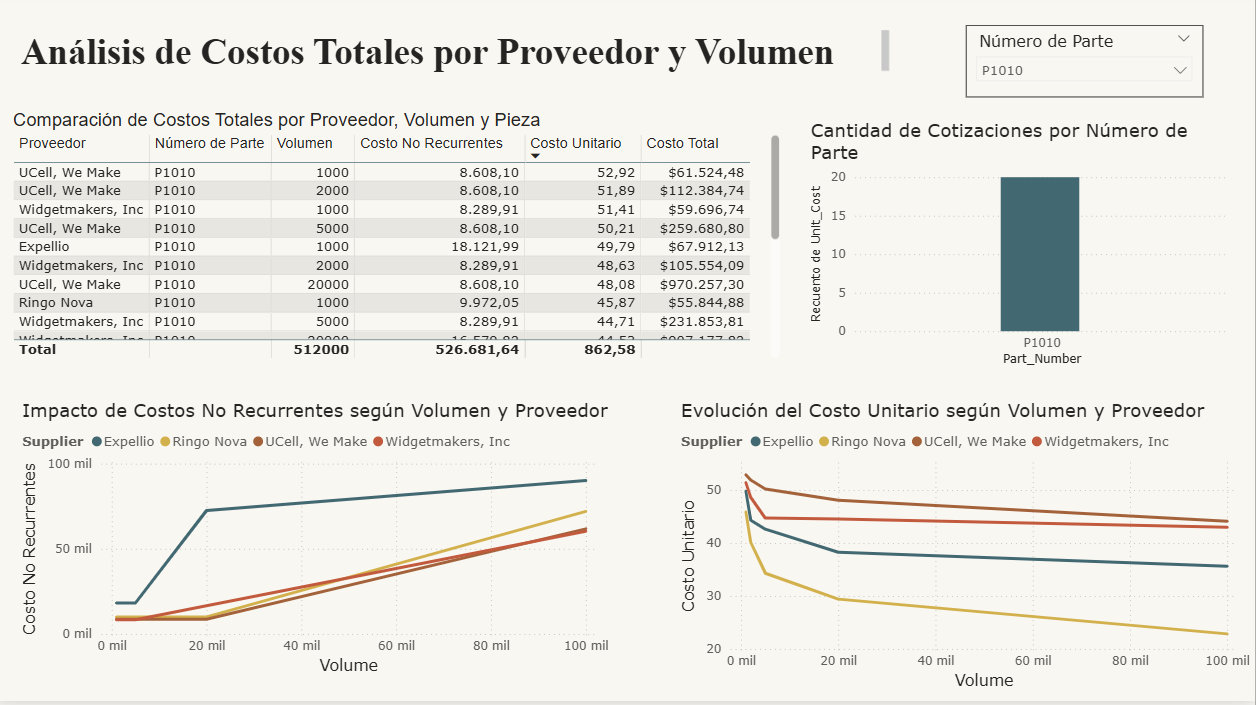

Layout of this report page (visuals, bound fields, positions):
{"tool":"powerbi","page":{"name":"Page 1","canvas":[1280,720],"ordinal":0},"visuals":[{"type":"lineChart","title":"Impacto de Costos No Recurrentes según Volumen y Proveedor","fields":{"Series":["Quotes.Supplier"],"Y":["Sum(Quotes.Non_recurring_expenses)"],"Category":["Quotes.Volume"]},"box":[21.5,411.8,605.6,285.1],"z":0},{"type":"slicer","fields":{"Values":["Quotes.Part_Number"]},"box":[986.6,32.9,241.1,73.8],"z":1000},{"type":"lineChart","title":"Evolución del Costo Unitario según Volumen y Proveedor","fields":{"Category":["Quotes.Volume"],"Y":["Sum(Quotes.Unit_Cost)"],"Series":["Quotes.Supplier"]},"box":[691.8,411.8,587.9,300.3],"z":2000},{"type":"tableEx","title":"Comparación de Costos Totales por Proveedor, Volumen y Pieza","fields":{"Values":["Quotes.Supplier","Quotes.Part_Number","Sum(Quotes.Volume)","Sum(Quotes.Non_recurring_expenses)","Sum(Quotes.Unit_Cost)","Quotes.FullCost"]},"box":[11.9,118.6,789,258.2],"z":3000},{"type":"clusteredColumnChart","title":"Cantidad de Cotizaciones por Número de Parte","fields":{"Y":["CountNonNull(Quotes.Unit_Cost)"],"Category":["Internal_Mfg_Resource_Estimates.Part_Number"]},"box":[823.3,127.8,434.7,256.9],"z":4000},{"type":"textbox","box":[11.4,32.9,902.1,51.9],"z":5000}]}

Visuals, with their boxes in screenshot pixels (x1, y1, x2, y2), scaled from the page's 1280x720 canvas onto the 1256x705 screenshot:
"Impacto de Costos No Recurrentes según Volumen y Proveedor" lineChart: (x1=21, y1=403, x2=615, y2=682)
slicer - Quotes.Part_Number: (x1=968, y1=32, x2=1205, y2=104)
"Evolución del Costo Unitario según Volumen y Proveedor" lineChart: (x1=679, y1=403, x2=1255, y2=697)
"Comparación de Costos Totales por Proveedor, Volumen y Pieza" tableEx: (x1=12, y1=116, x2=786, y2=369)
"Cantidad de Cotizaciones por Número de Parte" clusteredColumnChart: (x1=808, y1=125, x2=1234, y2=377)
textbox: (x1=11, y1=32, x2=896, y2=83)
